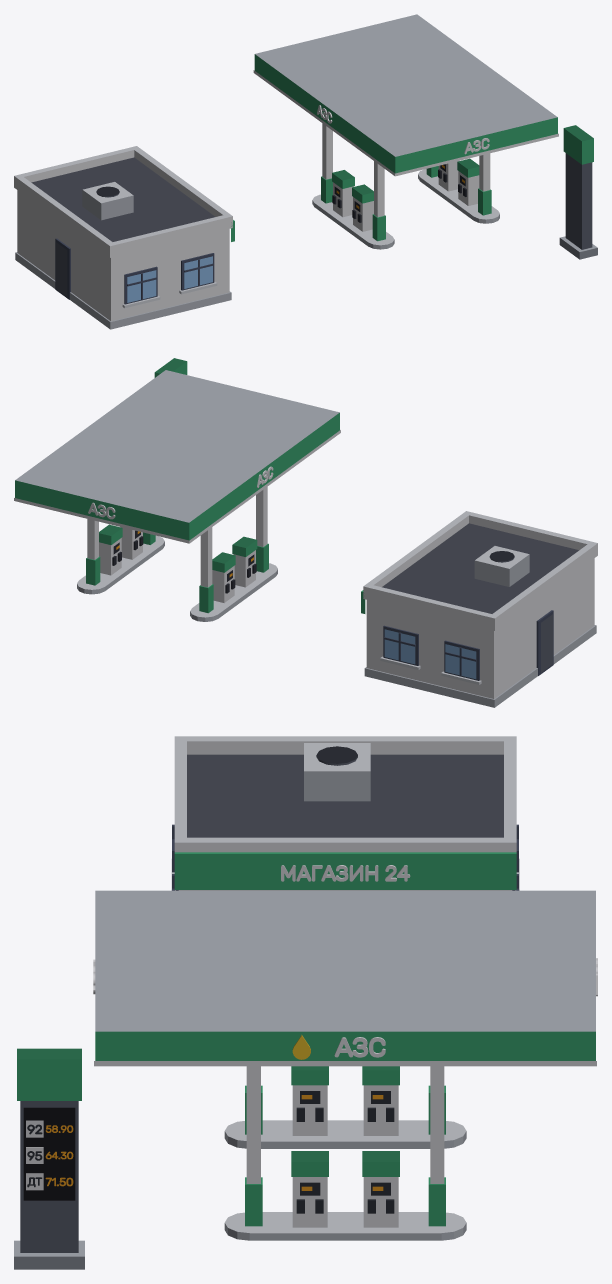
The model's file is gas_station.glb.
The picture shows the model from 3 angles, top to bottom: view 1: azimuth 30°, elevation 25°; view 2: azimuth 150°, elevation 25°; view 3: azimuth 270°, elevation 25°; orthographic projection. The views are drawn at different scales.
Visible parts, largest first — view 1: GasStation; view 2: GasStation; view 3: GasStation.
Part boxes in pixels (<box>): GasStation: <box>14,14,597,329</box>; GasStation: <box>14,358,597,707</box>; GasStation: <box>14,736,597,1269</box>.
Size of the model in its own units: 21.82 by 5.9 by 14.
